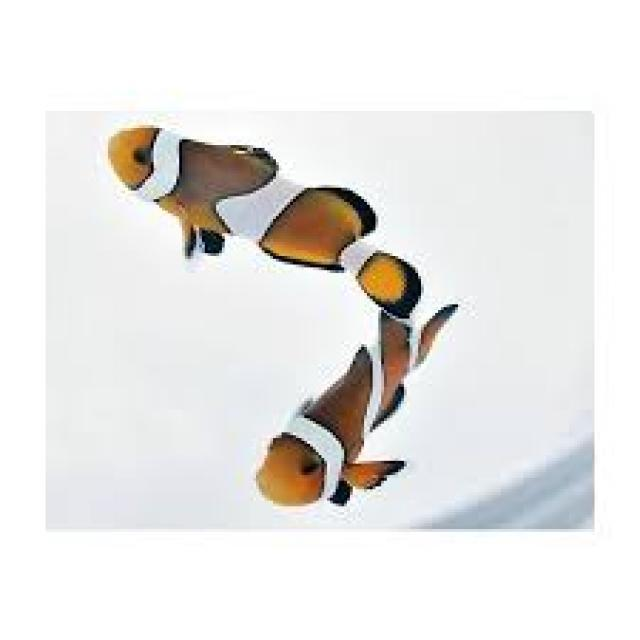ClownFish: (104, 128, 423, 316), (250, 298, 460, 513)
